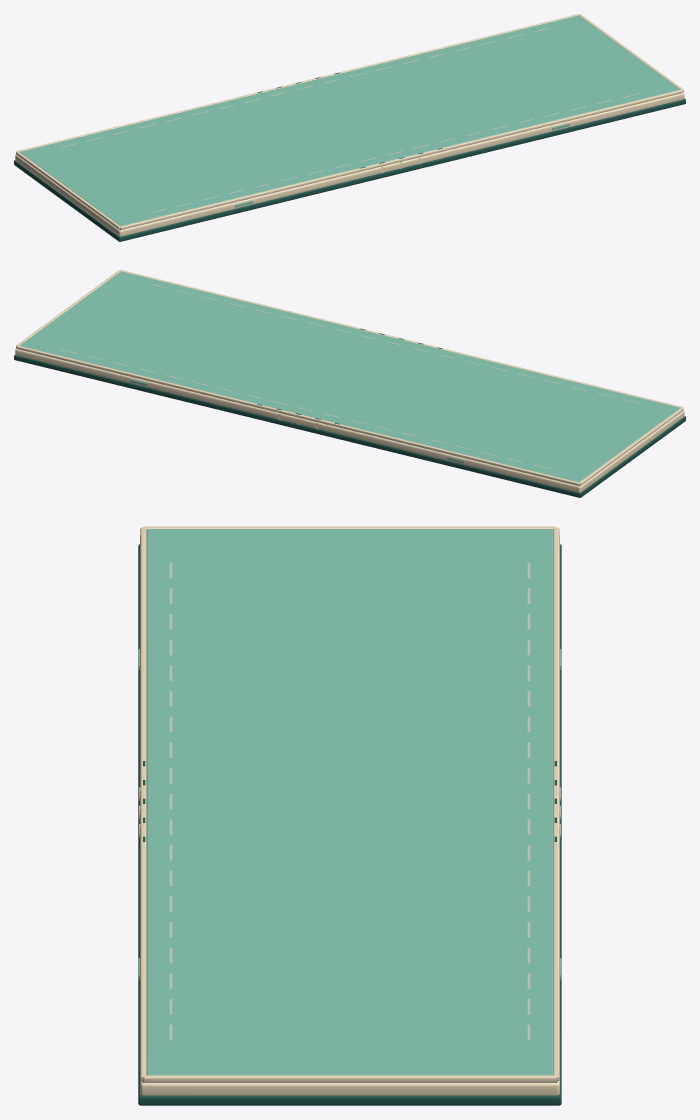
The model's file is athlete_start_platform.glb.
The picture shows the model from 3 angles, top to bottom: view 1: azimuth 30°, elevation 25°; view 2: azimuth 150°, elevation 25°; view 3: azimuth 270°, elevation 25°; orthographic projection. The views are drawn at different scales.
Parts seen in each view (by area): view 1: athlete_start_platform__surface_mint, athlete_start_platform__cream, athlete_start_platform__ink, athlete_start_platform__line; view 2: athlete_start_platform__surface_mint, athlete_start_platform__cream, athlete_start_platform__ink, athlete_start_platform__line; view 3: athlete_start_platform__surface_mint, athlete_start_platform__cream, athlete_start_platform__ink, athlete_start_platform__line.
Boxes of the visible parts, bbox=[...] form: athlete_start_platform__surface_mint: bbox=[20, 15, 680, 226]; athlete_start_platform__cream: bbox=[15, 14, 684, 236]; athlete_start_platform__ink: bbox=[14, 72, 685, 241]; athlete_start_platform__line: bbox=[60, 28, 639, 213]; athlete_start_platform__surface_mint: bbox=[19, 271, 679, 482]; athlete_start_platform__cream: bbox=[15, 270, 684, 492]; athlete_start_platform__ink: bbox=[14, 328, 685, 497]; athlete_start_platform__line: bbox=[60, 284, 639, 469]; athlete_start_platform__surface_mint: bbox=[138, 529, 561, 1075]; athlete_start_platform__cream: bbox=[139, 526, 560, 1095]; athlete_start_platform__ink: bbox=[138, 544, 561, 1105]; athlete_start_platform__line: bbox=[169, 562, 530, 1040].
Bounding box in the file's own units: 8.19 × 0.197 × 2.65.
